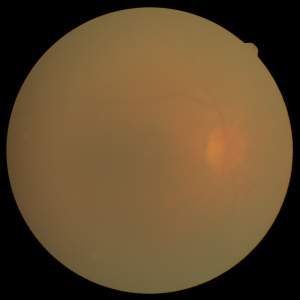cataract: (81, 89, 270, 216)
